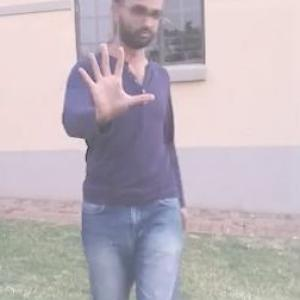follow_hand: (75, 38, 160, 126)
